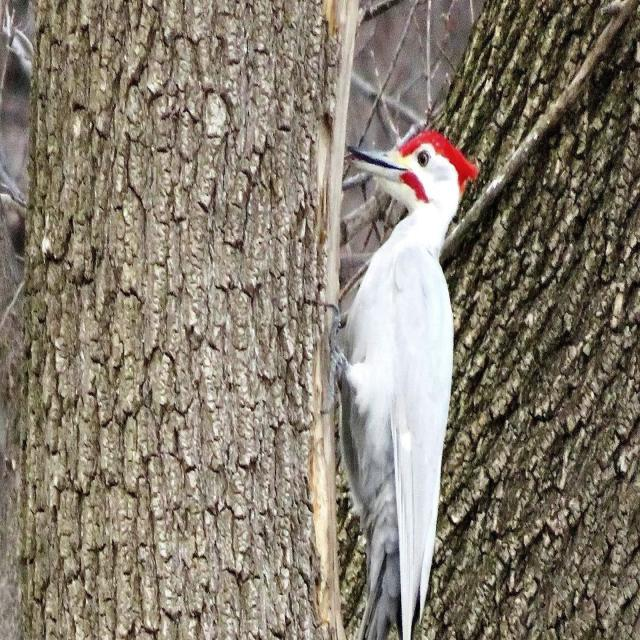woodpecker: (330, 130, 478, 639)
